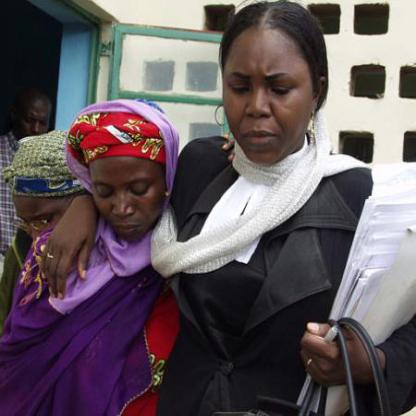face: (221, 2, 316, 167), (91, 119, 169, 245), (18, 94, 54, 150)
